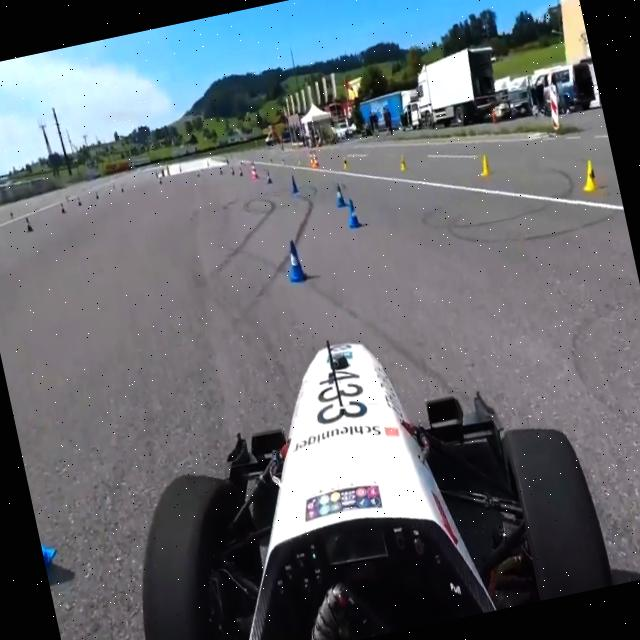blue_cone: (26, 473, 62, 580), (279, 234, 310, 286), (342, 196, 362, 230), (331, 181, 348, 209), (287, 172, 300, 196)
large_orange_cone: (249, 160, 258, 180), (311, 150, 319, 168), (308, 150, 314, 166)
yellow_cone: (576, 154, 598, 194), (476, 152, 491, 177), (398, 152, 408, 172)
